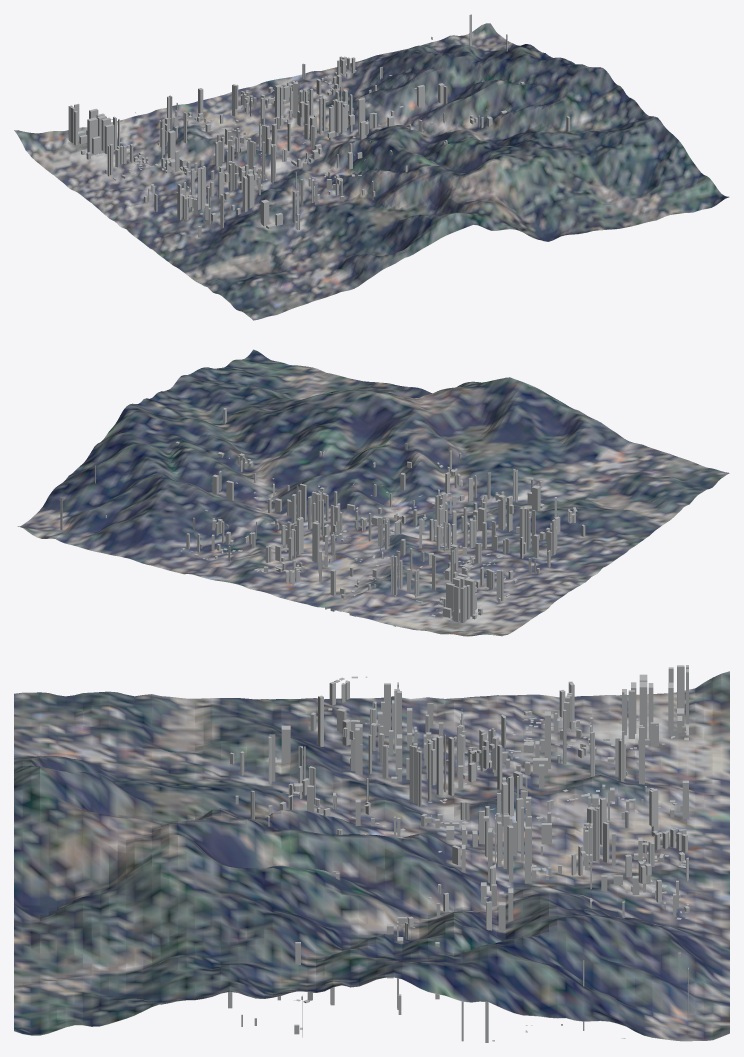
3 views of the same model, one above another, from view 1: azimuth 30°, elevation 25°; view 2: azimuth 150°, elevation 25°; view 3: azimuth 270°, elevation 25° (orthographic). The views are drawn at different scales.
Visible parts, largest first — view 1: image_overlay, buildings; view 2: image_overlay, buildings; view 3: image_overlay, buildings, terrain_dem.
Part boxes in pixels (x1,y1,x2,y2): image_overlay: [14, 23, 728, 320]; buildings: [68, 14, 570, 237]; image_overlay: [17, 349, 729, 636]; buildings: [60, 408, 585, 626]; image_overlay: [14, 671, 729, 1040]; buildings: [228, 665, 689, 1042]; terrain_dem: [14, 977, 729, 1041].
Bounding box in the file's own units: 2539 × 339 × 2208.
